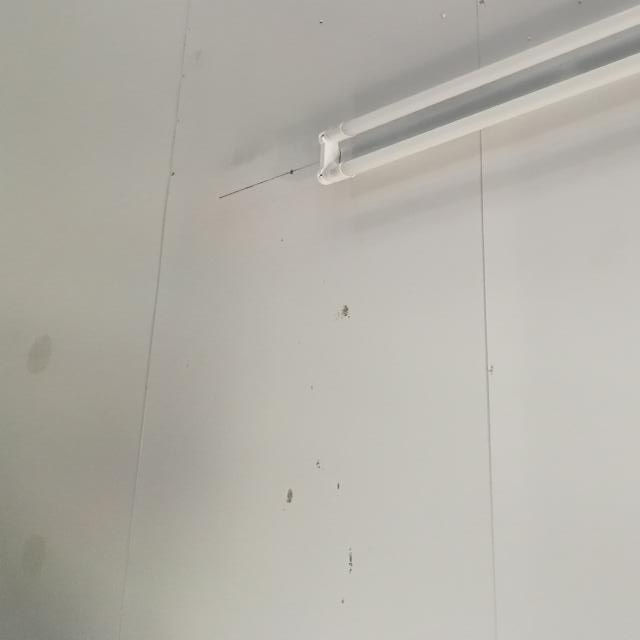fluorescent tube: (304, 0, 640, 197)
